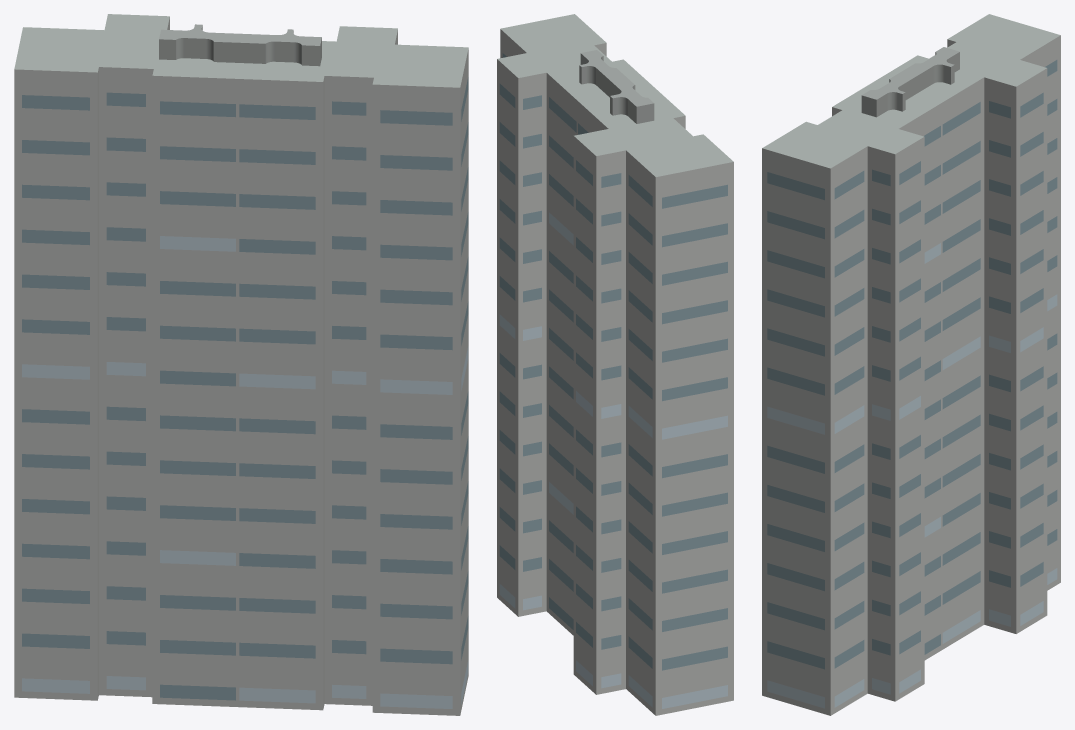
The model's file is fallback-lake-palace-105.glb.
3 views of the same model, side by side, from view 1: azimuth 30°, elevation 25°; view 2: azimuth 150°, elevation 25°; view 3: azimuth 270°, elevation 25° (orthographic). The views are drawn at different scales.
Parts seen in each view (by area): view 1: fallback-lake-palace-105; view 2: fallback-lake-palace-105; view 3: fallback-lake-palace-105.
Part boxes in pixels (x1,y1,x2,y2): fallback-lake-palace-105: (14,14,468,715); fallback-lake-palace-105: (497,14,733,715); fallback-lake-palace-105: (762,14,1060,715).
Size of the model in its own units: 45.17 by 77 by 36.9.
